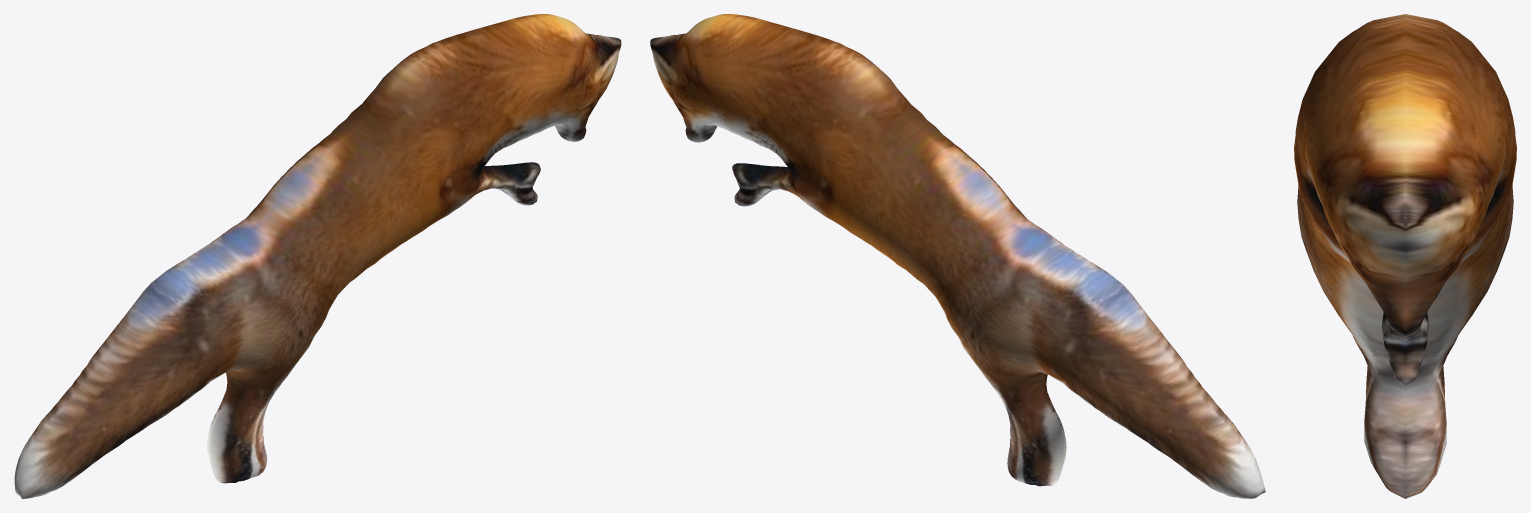
Rendered from 裝置藝術.glb.
The picture shows the model from 3 angles, left to right: view 1: azimuth 30°, elevation 25°; view 2: azimuth 150°, elevation 25°; view 3: azimuth 270°, elevation 25°; orthographic projection. The views are drawn at different scales.
Visible parts, largest first — view 1: 8ba10eb4-c861-4df3-9a8f-918a89338bbc; view 2: 8ba10eb4-c861-4df3-9a8f-918a89338bbc; view 3: 8ba10eb4-c861-4df3-9a8f-918a89338bbc.
Part boxes in pixels (x1,y1,x2,y2): 8ba10eb4-c861-4df3-9a8f-918a89338bbc: (14,14,621,498); 8ba10eb4-c861-4df3-9a8f-918a89338bbc: (650,14,1265,498); 8ba10eb4-c861-4df3-9a8f-918a89338bbc: (1294,14,1516,498).
Size of the model in its own units: 4.3 by 2.64 by 0.833.
1 material, 1 textured.
